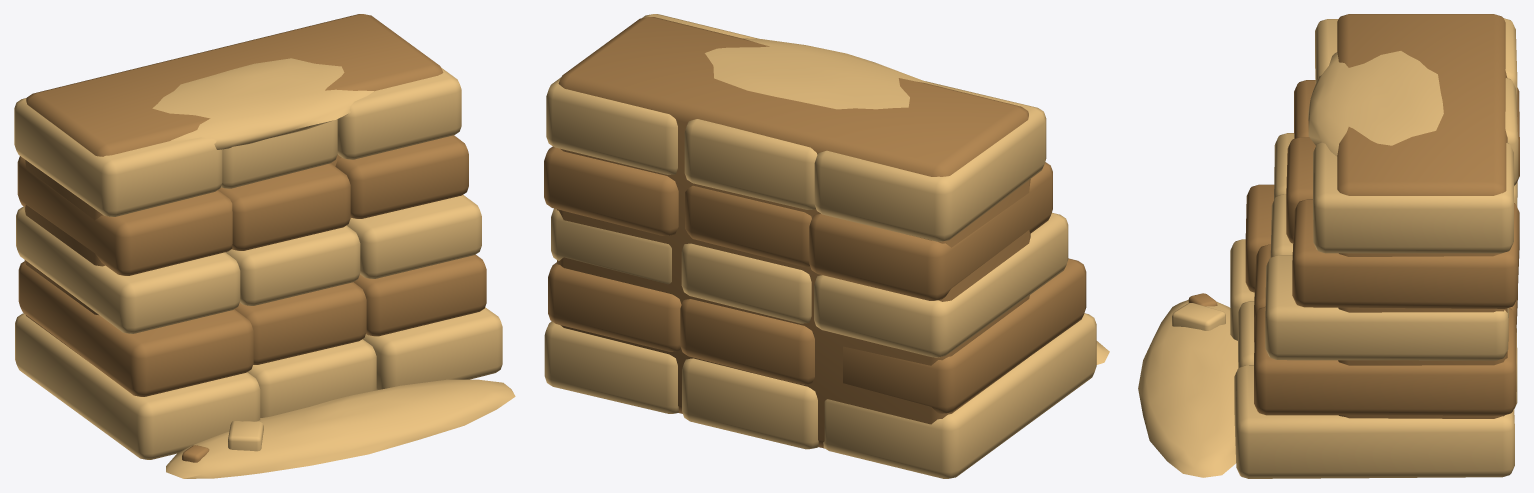
The model's file is SandCliffA.fbx.
3 renders of one model, left to right at view 1: azimuth 30°, elevation 25°; view 2: azimuth 150°, elevation 25°; view 3: azimuth 270°, elevation 25°, orthographic. The views are drawn at different scales.
Parts seen in each view (by area): view 1: SandCliffA; view 2: SandCliffA; view 3: SandCliffA.
Part boxes in pixels (x1,y1,x2,y2): SandCliffA: [14, 14, 515, 478]; SandCliffA: [544, 14, 1109, 478]; SandCliffA: [1138, 14, 1519, 478].
Size of the model in its own units: 8 by 5.85 by 6.85.
1 material, 1 textured.
